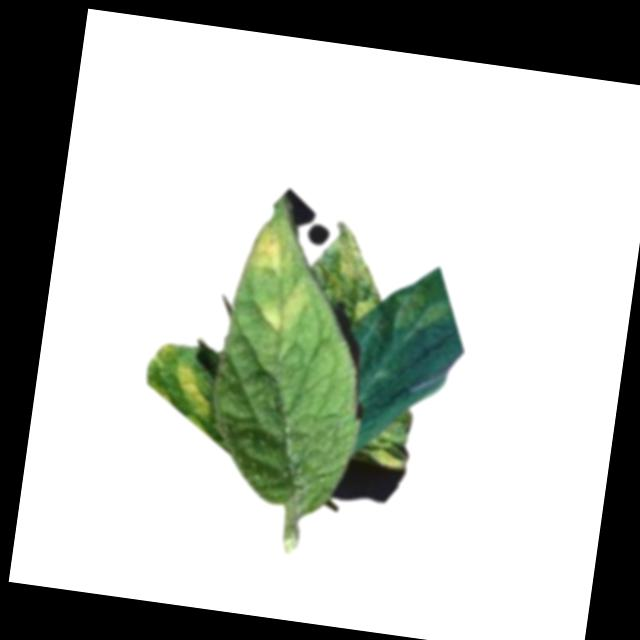Leaf_Mold: (319, 223, 389, 327), (144, 341, 219, 428), (385, 280, 451, 338), (240, 216, 294, 282), (254, 278, 307, 332), (372, 436, 410, 470)
